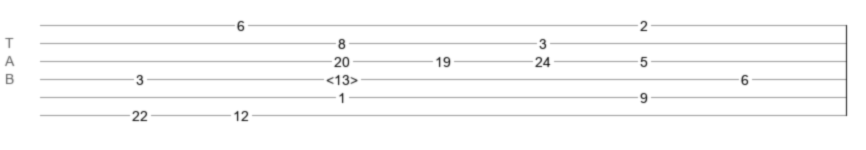1: (338, 90, 346, 100)
12: (233, 108, 249, 118)
19: (435, 54, 451, 64)
2: (640, 18, 648, 28)
20: (334, 54, 350, 64)
22: (132, 108, 148, 118)
24: (535, 54, 551, 64)
3: (136, 72, 144, 82), (539, 36, 547, 46)
5: (640, 54, 648, 64)
6: (237, 18, 245, 28), (741, 72, 749, 82)
8: (338, 36, 346, 46)
9: (640, 90, 648, 100)
harmonic: (326, 72, 358, 82)
